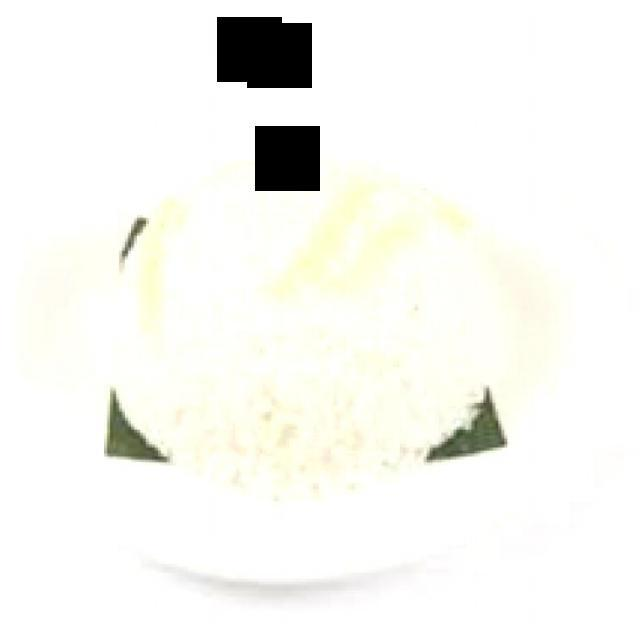rice: (110, 148, 496, 502)
